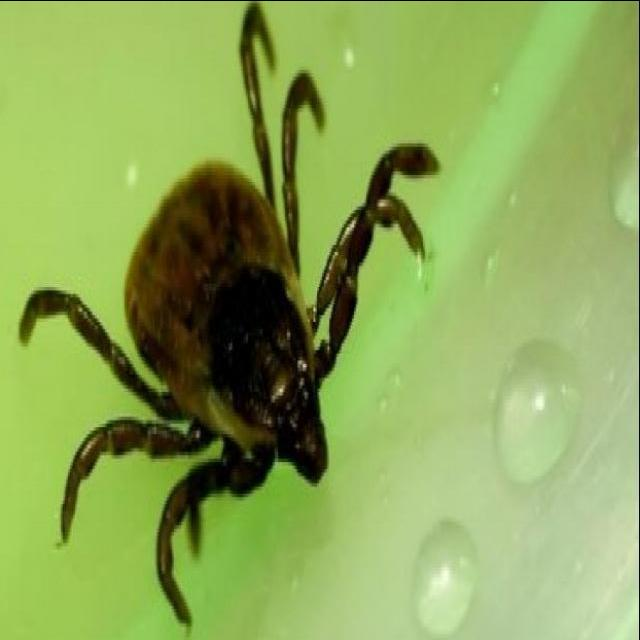Rhipicephalus Sanguineus-F: (23, 2, 443, 629)
